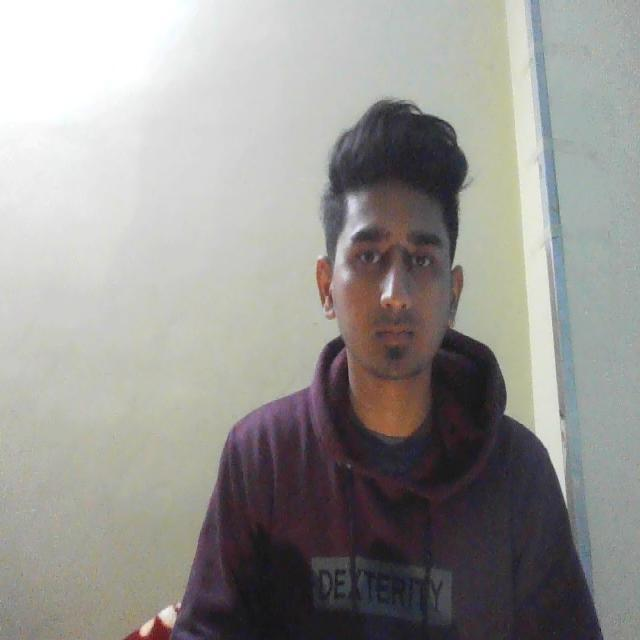real: (322, 128, 470, 408)
